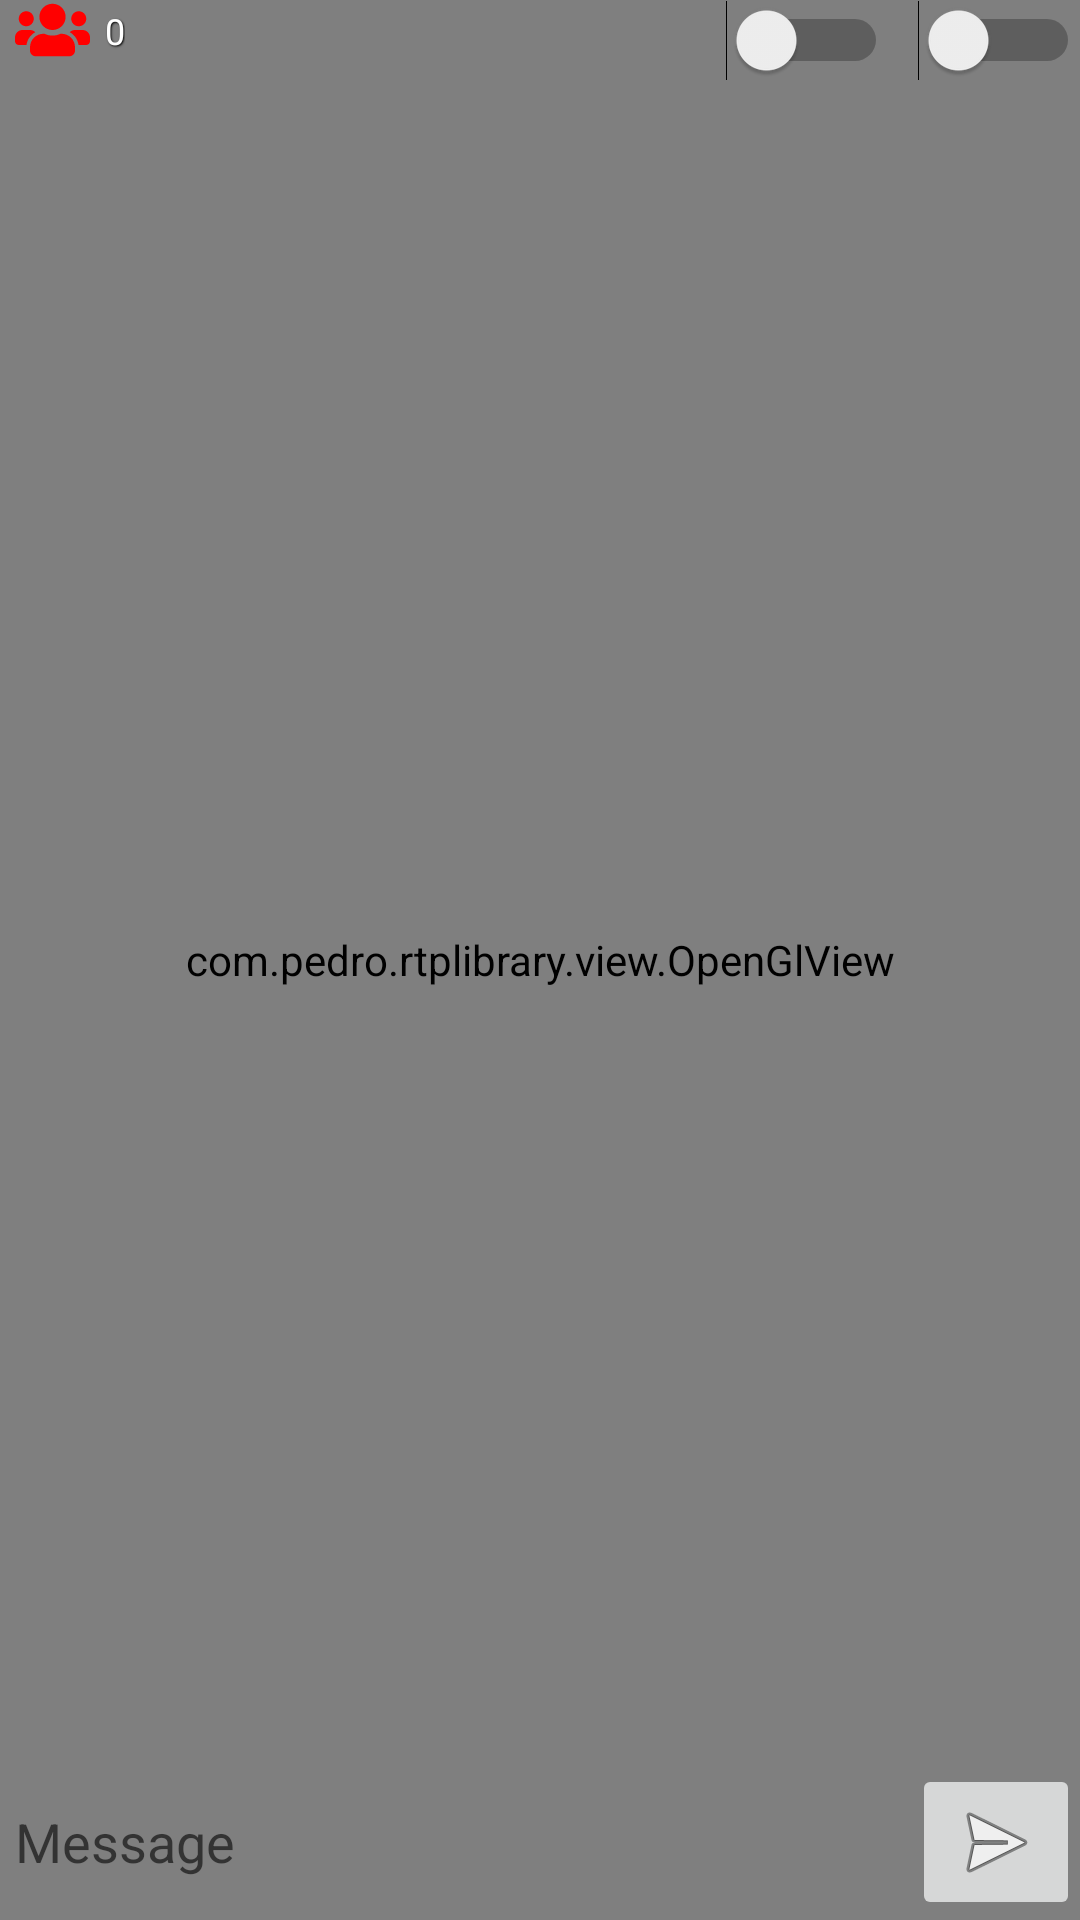

Where icons sit on this 1080w x 1920h app screen, as (x1=x1, y1=y1, x2=x2, y2=y2):
Send: (x1=924, y1=1782, x2=1068, y2=1902)
users: (x1=15, y1=3, x2=90, y2=57)
